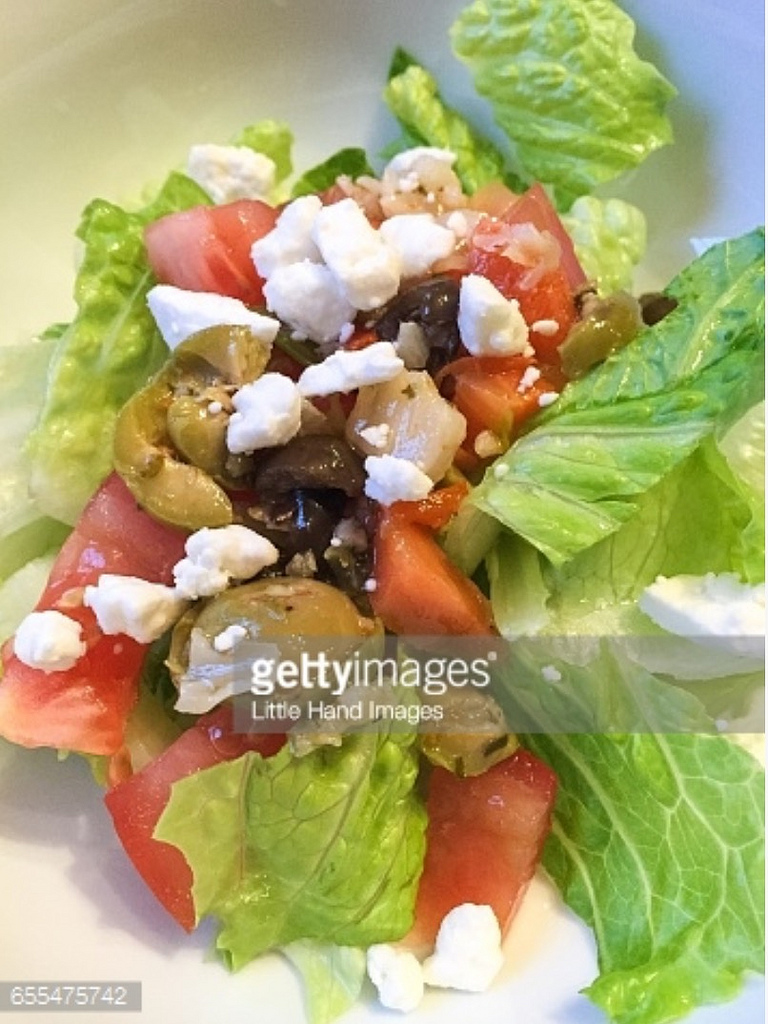chopped lettuce: (520, 408, 753, 968)
